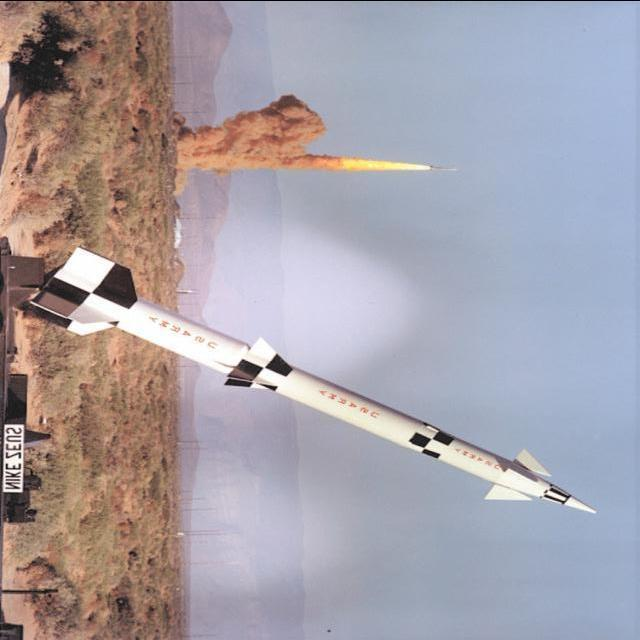missile: (25, 243, 601, 525)
